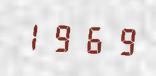nine: (47, 18, 75, 55), (105, 21, 133, 58)
one: (18, 16, 46, 54)
six: (76, 19, 104, 57)
